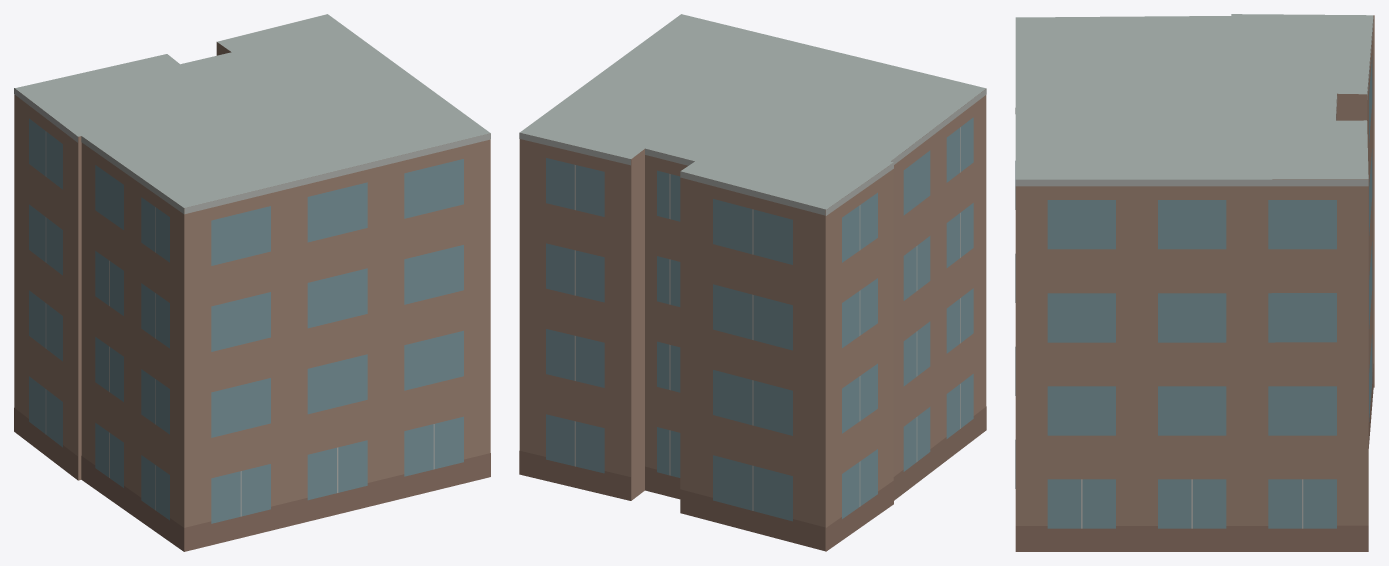
File: survey-upis-32932323.glb
The picture shows the model from 3 angles, left to right: view 1: azimuth 30°, elevation 25°; view 2: azimuth 150°, elevation 25°; view 3: azimuth 270°, elevation 25°; orthographic projection. The views are drawn at different scales.
Visible parts, largest first — view 1: survey-upis-32932323.tmp; view 2: survey-upis-32932323.tmp; view 3: survey-upis-32932323.tmp.
Part boxes in pixels (x1,y1,x2,y2): survey-upis-32932323.tmp: (14,14,490,551); survey-upis-32932323.tmp: (519,14,986,551); survey-upis-32932323.tmp: (1015,14,1374,551).
Size of the model in its own units: 12.79 by 13.4 by 11.73.
